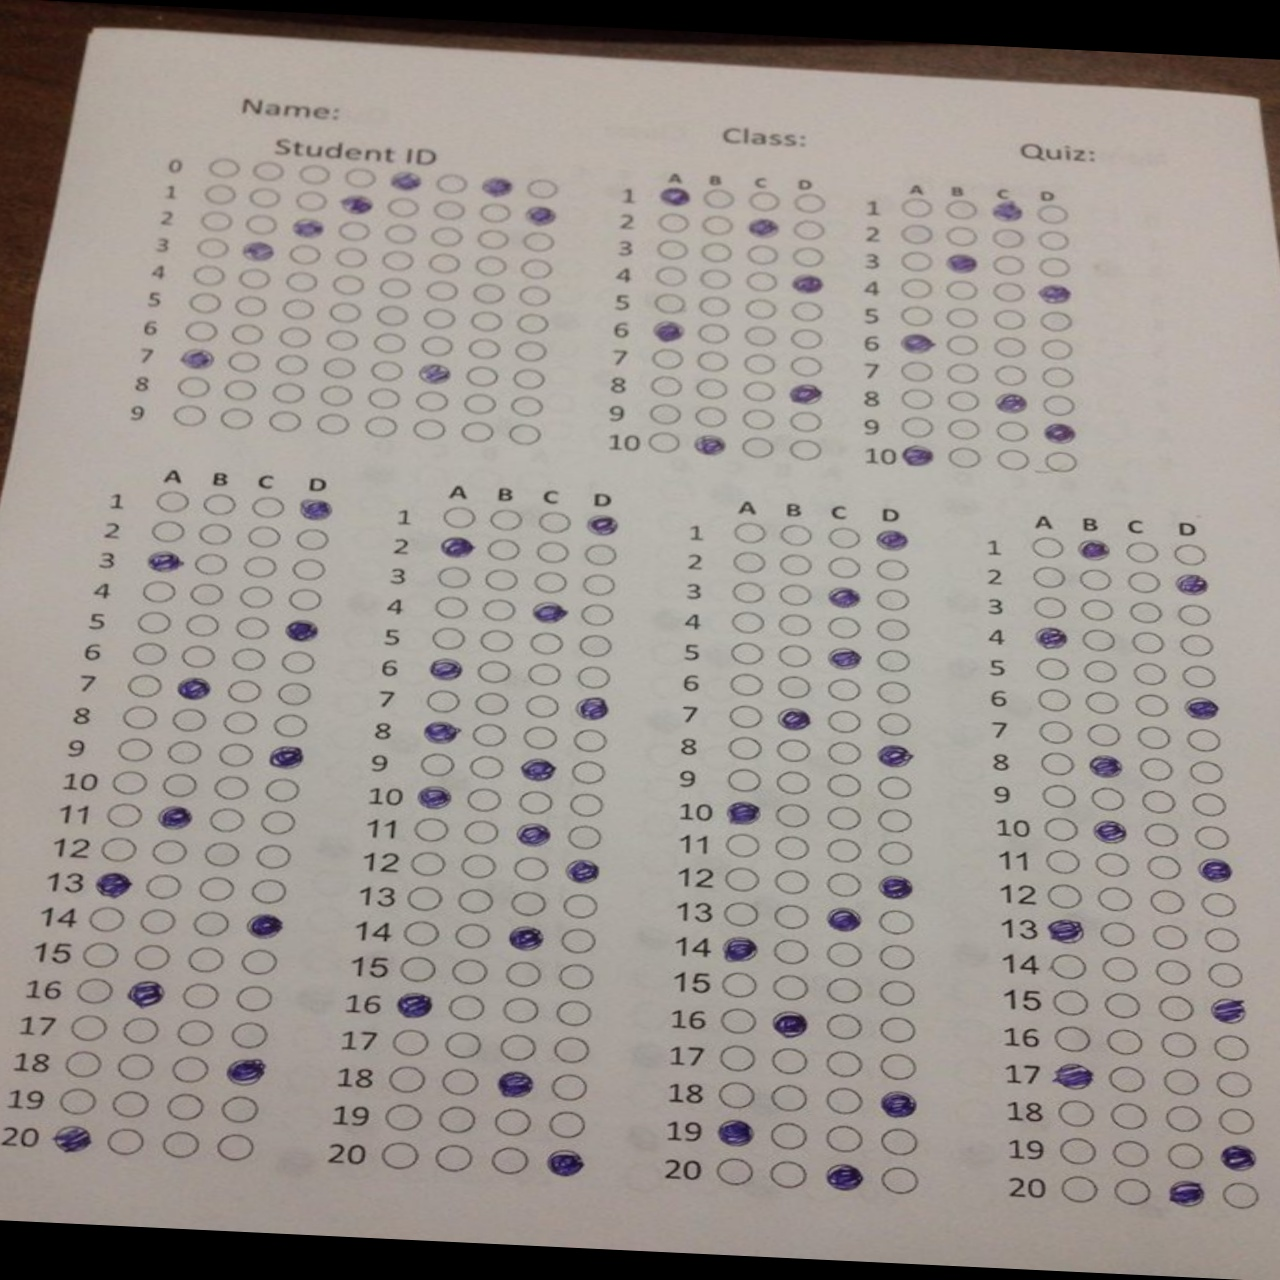not-c: (436, 1067, 486, 1099), (1053, 1133, 1102, 1166), (1105, 1098, 1152, 1132), (1109, 1175, 1156, 1208), (427, 1142, 475, 1175), (821, 1013, 869, 1046), (546, 1071, 593, 1104), (878, 1164, 925, 1197), (550, 999, 600, 1029), (162, 1126, 204, 1163), (1099, 1027, 1148, 1058), (186, 908, 232, 941), (216, 1092, 265, 1123), (550, 1034, 595, 1067), (765, 972, 812, 1003), (878, 1016, 925, 1048), (874, 978, 918, 1012), (1048, 1023, 1092, 1056), (1208, 1068, 1254, 1099), (1041, 881, 1090, 911), (489, 1107, 531, 1141), (253, 840, 297, 873), (486, 1146, 531, 1178), (821, 869, 865, 900), (1204, 959, 1248, 990), (1218, 1105, 1262, 1137), (518, 693, 566, 722), (712, 972, 760, 1001), (712, 1080, 760, 1109), (227, 1017, 268, 1051), (113, 1088, 154, 1122), (1095, 953, 1137, 986), (1208, 1030, 1251, 1063), (127, 610, 173, 639), (375, 1141, 422, 1170), (1050, 1099, 1097, 1129), (716, 1006, 760, 1037), (1131, 753, 1175, 784), (1104, 1065, 1148, 1097), (210, 772, 254, 803), (254, 806, 299, 837), (199, 838, 244, 869), (57, 1049, 102, 1080), (496, 1030, 537, 1063), (547, 1109, 588, 1142), (768, 1046, 809, 1078), (1044, 813, 1085, 846), (1218, 1180, 1264, 1210), (113, 1054, 156, 1084), (163, 1092, 206, 1123), (525, 658, 568, 688), (53, 1087, 100, 1115), (712, 1043, 758, 1071), (1138, 852, 1185, 880), (217, 1131, 257, 1164), (215, 740, 259, 769), (556, 927, 600, 956), (386, 1027, 430, 1056), (1182, 724, 1226, 754), (1048, 988, 1092, 1017), (177, 1017, 218, 1049), (722, 829, 763, 860), (717, 765, 765, 792), (644, 343, 689, 372), (104, 1126, 147, 1157), (557, 894, 602, 922), (445, 992, 488, 1022), (770, 1083, 812, 1114), (713, 1156, 755, 1186), (1173, 631, 1216, 661), (464, 784, 508, 813), (395, 955, 438, 985), (871, 806, 914, 836), (823, 838, 866, 867), (238, 945, 277, 978), (231, 983, 278, 1010), (1165, 1141, 1205, 1172), (1058, 1173, 1098, 1205), (284, 588, 328, 617), (768, 1122, 812, 1150), (1073, 627, 1117, 655), (1126, 658, 1171, 686), (1152, 959, 1197, 987), (1162, 1105, 1206, 1133), (501, 996, 542, 1027), (870, 556, 911, 586), (876, 944, 917, 974), (770, 1158, 811, 1189), (79, 941, 121, 971), (726, 607, 768, 636), (1108, 1138, 1150, 1167), (100, 801, 145, 828), (563, 825, 608, 852), (248, 874, 286, 907), (1158, 994, 1196, 1027), (410, 413, 449, 444), (69, 1012, 108, 1043), (567, 790, 606, 822), (72, 976, 115, 1005), (384, 1065, 428, 1094), (873, 840, 917, 869), (823, 804, 863, 835), (150, 836, 191, 865), (193, 873, 234, 903), (573, 663, 614, 693), (826, 1085, 867, 1115), (1173, 540, 1214, 570), (1200, 890, 1241, 919), (418, 687, 463, 714), (768, 903, 812, 930), (288, 554, 331, 583), (451, 921, 493, 949), (724, 673, 767, 701), (879, 1053, 921, 1081), (1078, 658, 1121, 686), (1040, 847, 1082, 876), (1200, 925, 1242, 953), (1162, 1067, 1199, 1098), (1091, 851, 1130, 881), (1144, 890, 1190, 915), (471, 658, 515, 685), (454, 888, 497, 915), (1037, 781, 1081, 808), (181, 981, 220, 1010), (121, 1016, 161, 1046), (554, 961, 594, 990), (437, 1104, 477, 1133), (826, 706, 866, 735), (772, 832, 812, 862), (775, 869, 815, 898), (880, 1129, 920, 1158), (1135, 721, 1175, 750), (1152, 924, 1192, 953), (742, 268, 783, 297), (230, 615, 271, 644), (128, 639, 169, 667), (275, 678, 316, 706), (263, 776, 304, 804), (512, 856, 553, 884), (508, 890, 549, 918), (772, 801, 813, 829), (723, 864, 764, 892), (1026, 533, 1067, 561), (1087, 782, 1128, 810), (1101, 992, 1142, 1020), (879, 905, 915, 937), (161, 740, 205, 765), (134, 944, 171, 974), (1078, 594, 1116, 625), (737, 349, 779, 376), (204, 806, 246, 833), (529, 539, 571, 566), (730, 549, 772, 576), (721, 703, 763, 730), (777, 522, 819, 549), (874, 775, 917, 802), (1029, 594, 1071, 621), (1136, 788, 1178, 815), (89, 903, 128, 932), (1122, 538, 1160, 567), (1124, 566, 1163, 595), (170, 1055, 210, 1083), (478, 595, 518, 624), (515, 788, 554, 816), (406, 883, 445, 911), (451, 956, 491, 985), (386, 1103, 425, 1131), (826, 554, 866, 583), (874, 709, 914, 737), (825, 772, 865, 801), (825, 1126, 865, 1155), (1099, 919, 1139, 947), (1080, 692, 1123, 717), (1193, 824, 1237, 850), (572, 726, 607, 757), (279, 649, 320, 676), (166, 704, 207, 731), (576, 602, 617, 629), (1032, 720, 1073, 747), (136, 908, 173, 938), (774, 937, 811, 966), (826, 940, 864, 969), (1158, 1029, 1196, 1058), (459, 335, 504, 360), (788, 325, 826, 353), (292, 527, 334, 553), (123, 673, 165, 699), (224, 678, 263, 706), (579, 543, 621, 568), (483, 565, 522, 593), (469, 690, 511, 716), (467, 720, 509, 745), (418, 749, 457, 777), (459, 855, 498, 883), (400, 919, 442, 945), (442, 1030, 481, 1058), (825, 674, 864, 702), (774, 738, 816, 764), (821, 1050, 863, 1076), (1179, 663, 1218, 692), (1189, 790, 1227, 818), (1143, 822, 1182, 850), (508, 393, 547, 420), (468, 755, 508, 782), (1098, 885, 1133, 915), (825, 978, 862, 1007), (224, 349, 265, 375), (1034, 688, 1075, 714), (429, 622, 467, 651), (1077, 567, 1115, 595), (1186, 760, 1224, 788), (1049, 954, 1087, 982), (135, 580, 179, 604), (476, 200, 515, 227), (509, 338, 547, 365), (456, 418, 495, 445), (738, 406, 777, 433), (189, 583, 227, 610), (271, 712, 309, 738), (143, 874, 182, 901), (738, 322, 781, 347), (945, 445, 987, 470), (145, 519, 188, 544), (185, 947, 227, 972), (576, 572, 618, 597), (430, 594, 472, 619), (410, 817, 452, 842), (823, 614, 865, 639), (1037, 753, 1080, 777), (508, 958, 542, 988), (776, 608, 811, 638), (275, 324, 315, 349), (897, 195, 937, 220), (1040, 365, 1080, 390), (245, 495, 285, 520), (120, 704, 159, 730), (481, 535, 520, 560), (436, 565, 476, 591), (462, 819, 502, 845), (408, 850, 448, 876), (200, 489, 237, 517), (777, 670, 813, 699), (176, 373, 213, 400), (98, 837, 136, 864), (527, 629, 565, 656), (775, 770, 812, 797), (737, 379, 778, 403), (894, 248, 935, 273), (316, 384, 355, 410), (655, 210, 694, 236), (898, 358, 937, 383), (533, 570, 572, 595), (727, 583, 771, 605), (374, 301, 409, 329), (644, 375, 686, 399), (874, 648, 910, 676), (522, 177, 561, 202), (418, 333, 458, 358), (319, 354, 359, 379), (411, 389, 451, 414), (503, 423, 543, 448), (788, 298, 828, 322), (785, 355, 825, 380), (788, 408, 828, 433), (244, 524, 284, 549), (536, 510, 576, 535), (520, 724, 560, 749), (776, 583, 816, 607), (873, 586, 913, 611), (1177, 605, 1217, 629), (379, 248, 415, 275), (694, 347, 730, 374), (192, 552, 229, 579), (576, 633, 612, 660), (874, 617, 911, 644), (828, 738, 864, 765), (279, 295, 316, 321), (994, 363, 1032, 389), (649, 291, 690, 314), (896, 223, 937, 246), (114, 738, 155, 762), (724, 641, 765, 665), (778, 640, 811, 669), (231, 645, 265, 673), (469, 281, 508, 306), (693, 320, 731, 345), (1035, 309, 1074, 334), (1039, 394, 1077, 418), (993, 448, 1032, 472), (730, 520, 769, 545), (876, 682, 914, 707), (723, 901, 762, 926), (425, 278, 461, 305), (946, 304, 981, 331), (239, 584, 274, 611), (186, 613, 222, 640), (775, 552, 810, 579), (425, 250, 462, 275), (377, 275, 414, 301), (743, 241, 779, 267), (198, 520, 234, 546), (163, 772, 199, 798), (1085, 723, 1122, 749), (645, 431, 685, 455), (942, 278, 982, 301), (273, 352, 311, 376), (264, 409, 301, 434), (692, 406, 729, 430), (990, 336, 1028, 361), (945, 387, 982, 411), (111, 769, 149, 794), (828, 527, 865, 552), (1126, 600, 1164, 625), (326, 300, 365, 324), (644, 402, 679, 428), (222, 708, 257, 734), (479, 628, 515, 654), (571, 760, 606, 785), (726, 736, 761, 762), (324, 327, 360, 352), (368, 360, 404, 384), (697, 239, 734, 264), (1036, 229, 1073, 253), (993, 421, 1029, 445), (152, 489, 189, 513), (1132, 692, 1169, 716), (179, 321, 222, 342), (366, 387, 406, 409), (988, 280, 1028, 302), (942, 334, 982, 356), (944, 418, 983, 441), (288, 239, 321, 266), (1130, 629, 1163, 656), (340, 164, 377, 188), (899, 387, 937, 410), (468, 308, 502, 334), (992, 252, 1026, 278), (181, 645, 215, 670), (519, 282, 554, 307), (518, 312, 553, 336), (272, 380, 307, 404), (365, 415, 400, 440), (745, 298, 781, 322), (740, 435, 775, 459), (945, 224, 980, 248), (421, 307, 457, 331), (990, 307, 1027, 331), (444, 506, 481, 530), (488, 508, 524, 531), (220, 403, 253, 429), (783, 438, 823, 459), (1043, 449, 1077, 474), (243, 554, 277, 579), (434, 172, 471, 195), (470, 254, 508, 277), (519, 257, 557, 279), (185, 291, 223, 313), (387, 196, 422, 219), (334, 245, 369, 268), (511, 368, 546, 392), (227, 324, 266, 345), (171, 404, 210, 425), (942, 200, 981, 222), (1036, 256, 1075, 277), (898, 417, 937, 438), (220, 379, 257, 401), (297, 188, 331, 211), (433, 199, 467, 223), (372, 331, 406, 354), (748, 189, 782, 212), (946, 361, 983, 382), (280, 270, 315, 292), (993, 226, 1028, 248), (234, 292, 266, 316), (1035, 659, 1068, 682), (789, 193, 825, 215), (696, 268, 733, 290), (898, 305, 934, 326), (297, 162, 331, 184), (431, 225, 465, 247), (467, 365, 501, 387), (696, 377, 730, 400), (1041, 338, 1075, 360), (1032, 567, 1065, 590), (315, 411, 346, 436), (200, 210, 232, 233), (195, 237, 230, 258), (237, 267, 272, 288), (464, 392, 496, 415), (702, 188, 734, 211), (897, 278, 932, 299), (331, 272, 363, 294), (702, 213, 735, 236), (475, 229, 511, 248), (248, 186, 282, 207), (697, 297, 731, 318), (252, 159, 285, 181), (524, 229, 554, 251), (382, 224, 416, 244), (792, 220, 824, 241), (794, 246, 825, 267), (653, 264, 685, 285), (1037, 206, 1073, 225), (209, 157, 238, 179), (246, 213, 277, 234), (195, 265, 229, 284), (654, 241, 686, 261), (340, 222, 370, 241), (205, 182, 234, 202)
taken-c: (1201, 992, 1257, 1027), (151, 798, 202, 835), (1192, 852, 1242, 887), (1049, 1061, 1101, 1095), (818, 1158, 865, 1194), (220, 1056, 272, 1089), (870, 873, 927, 903), (49, 1121, 98, 1155), (768, 1007, 813, 1043), (714, 1115, 760, 1150), (1044, 915, 1092, 948), (872, 738, 917, 772), (503, 921, 550, 953), (493, 1065, 536, 1101), (719, 932, 761, 967), (87, 869, 135, 899), (880, 1089, 921, 1123), (125, 979, 171, 1009), (387, 990, 434, 1020), (561, 858, 606, 888), (1029, 622, 1074, 653), (171, 676, 219, 704), (579, 512, 627, 540), (527, 598, 570, 629), (1166, 1177, 1208, 1208), (519, 755, 563, 785), (411, 782, 455, 812), (512, 821, 556, 851), (545, 1148, 588, 1178), (871, 523, 915, 552), (1218, 1139, 1260, 1170), (723, 797, 767, 826), (898, 442, 941, 471), (1175, 568, 1216, 599), (244, 911, 286, 940), (572, 695, 612, 726), (264, 744, 311, 770), (418, 717, 459, 747), (822, 903, 864, 931), (280, 617, 324, 644), (1087, 753, 1130, 779), (1092, 818, 1132, 847), (139, 547, 184, 573), (824, 585, 869, 611), (1080, 533, 1117, 564), (436, 535, 478, 561), (824, 644, 866, 670), (1180, 695, 1223, 722), (897, 328, 939, 355), (784, 380, 828, 406), (775, 704, 816, 731), (651, 316, 689, 345), (1037, 279, 1076, 307), (427, 655, 467, 682), (654, 183, 695, 209), (995, 388, 1033, 416), (738, 213, 781, 238), (297, 496, 338, 520), (290, 215, 329, 239), (787, 270, 826, 294), (690, 434, 728, 459), (390, 170, 428, 195), (992, 200, 1029, 225), (181, 345, 217, 369), (239, 240, 278, 263), (481, 172, 512, 199), (945, 252, 981, 275), (338, 195, 376, 215), (519, 203, 556, 224), (418, 362, 452, 384), (1042, 423, 1076, 445)
